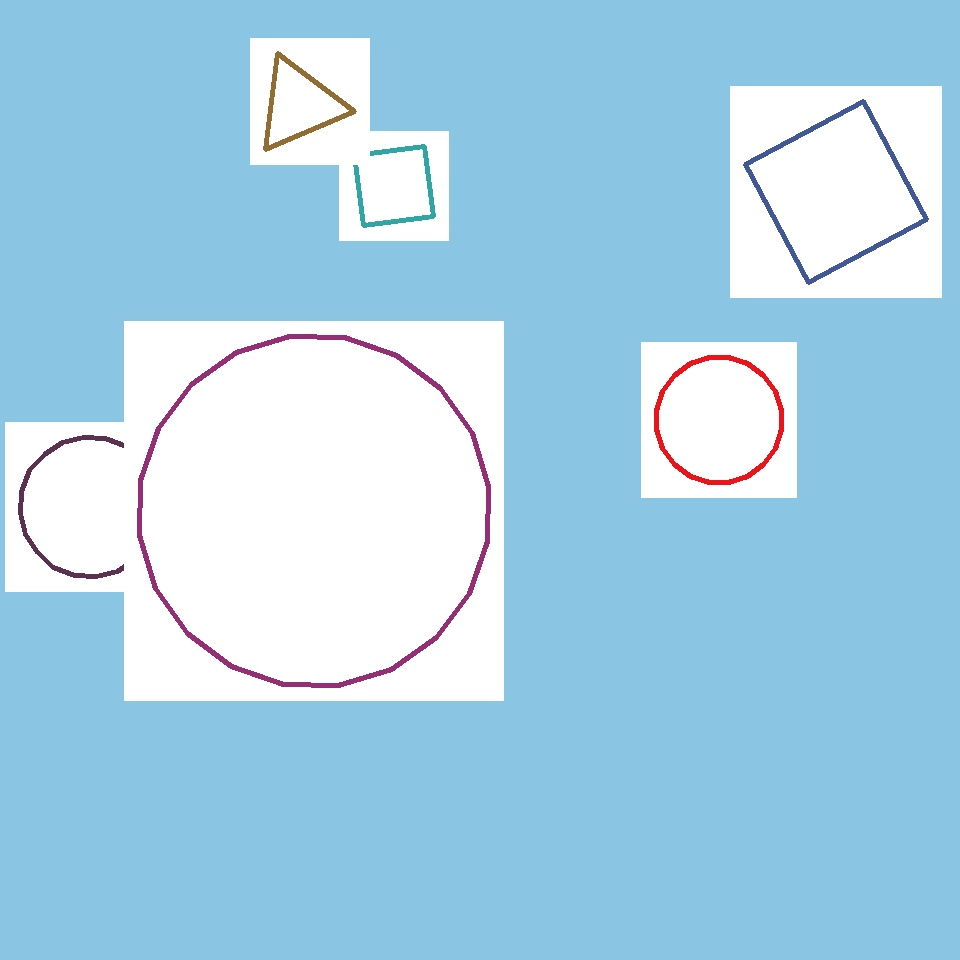circle: (97, 427, 285, 615), (630, 93, 788, 259), (255, 57, 344, 153)
square: (313, 145, 646, 478), (746, 102, 926, 283), (90, 503, 250, 664), (256, 284, 394, 422), (354, 146, 434, 226)
triangle: (140, 337, 488, 686), (552, 627, 806, 880), (20, 437, 160, 576), (656, 358, 781, 482)
